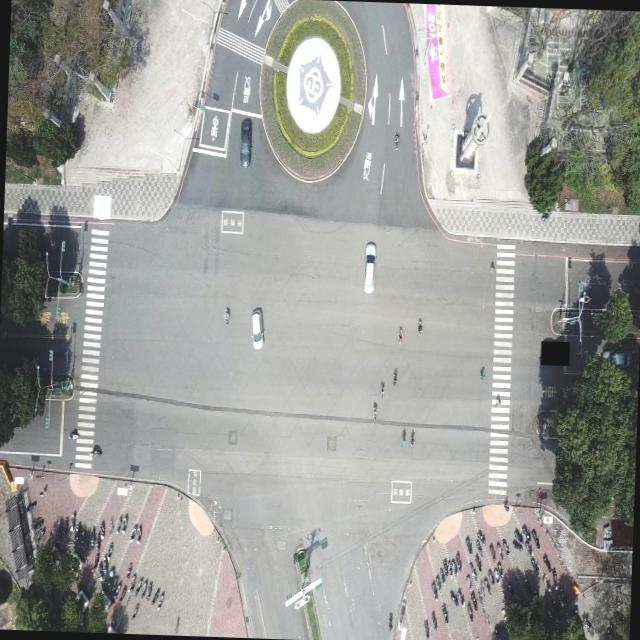bike: (221, 304, 230, 326), (88, 444, 102, 457), (371, 400, 378, 421), (66, 428, 78, 440), (416, 316, 422, 336), (491, 392, 499, 405), (479, 362, 485, 378), (391, 366, 396, 384)
car: (362, 238, 378, 292), (238, 116, 252, 168), (250, 305, 264, 348)
